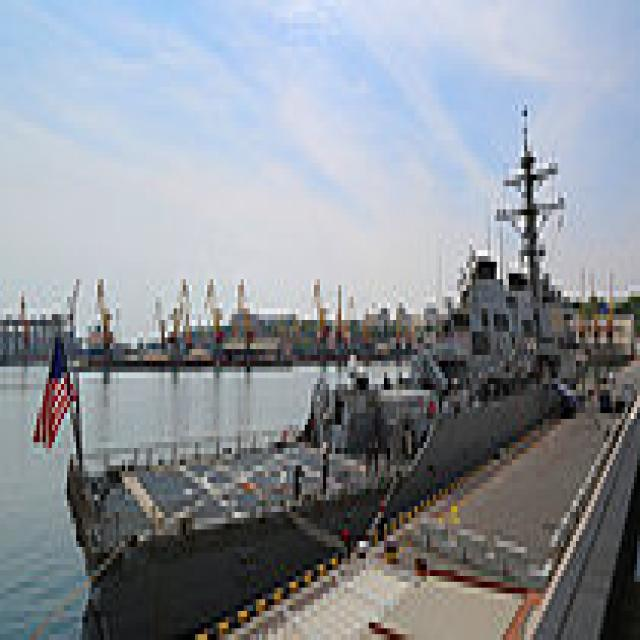Warship: (55, 93, 591, 634)
